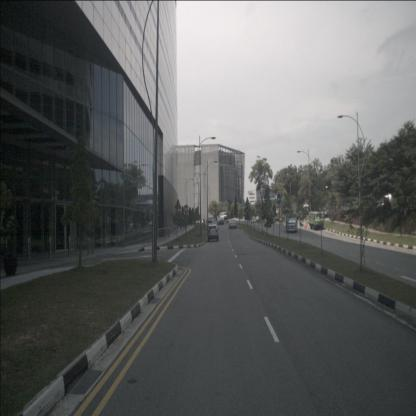cone: (303, 222, 306, 231), (305, 220, 308, 228)
